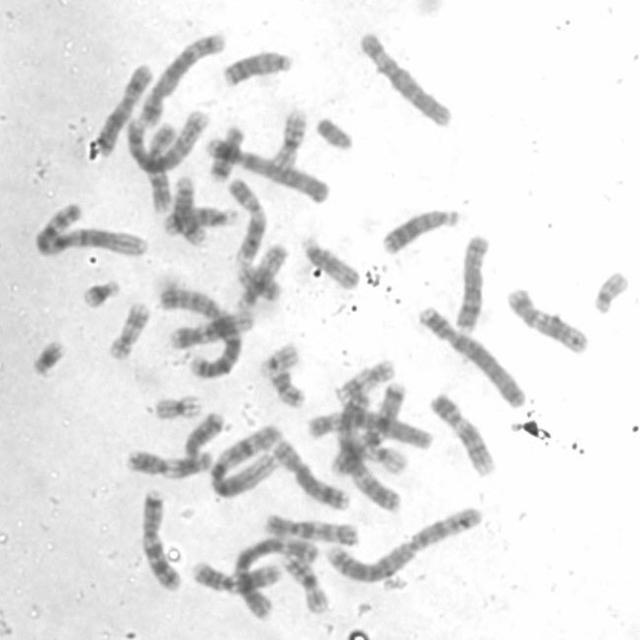A1: (33, 201, 150, 261), (207, 422, 284, 500)
A2: (324, 505, 486, 584), (156, 284, 242, 379)
A3: (336, 391, 404, 514), (232, 536, 320, 622)
B4: (416, 304, 530, 410), (204, 135, 333, 206)
B5: (138, 31, 228, 128), (122, 107, 214, 174)
C10: (263, 512, 360, 546), (144, 119, 178, 214)
C11: (190, 560, 284, 594), (124, 448, 215, 482)
C12: (508, 286, 590, 355), (166, 309, 256, 350)
C6: (357, 30, 453, 127), (306, 409, 432, 454)
C7: (330, 380, 410, 476), (134, 485, 184, 592)
C8: (270, 438, 353, 512), (454, 233, 491, 332)
C9: (429, 392, 498, 476), (227, 176, 269, 267)
D13: (381, 206, 461, 256), (222, 48, 294, 88)
D14: (172, 175, 209, 246), (162, 206, 240, 238)
D15: (235, 242, 291, 310), (299, 235, 362, 292)
E16: (279, 553, 330, 616), (270, 107, 310, 173)
E17: (334, 356, 398, 409), (108, 300, 151, 362)
E18: (207, 124, 245, 184), (182, 411, 227, 461)
F19: (358, 436, 411, 476), (152, 392, 205, 422)
F20: (233, 263, 285, 303), (269, 369, 309, 408)
G21: (30, 337, 66, 377), (80, 278, 120, 310)
G22: (257, 340, 303, 379), (591, 272, 630, 315)
X: (93, 61, 154, 160)
Y: (314, 115, 356, 150)
